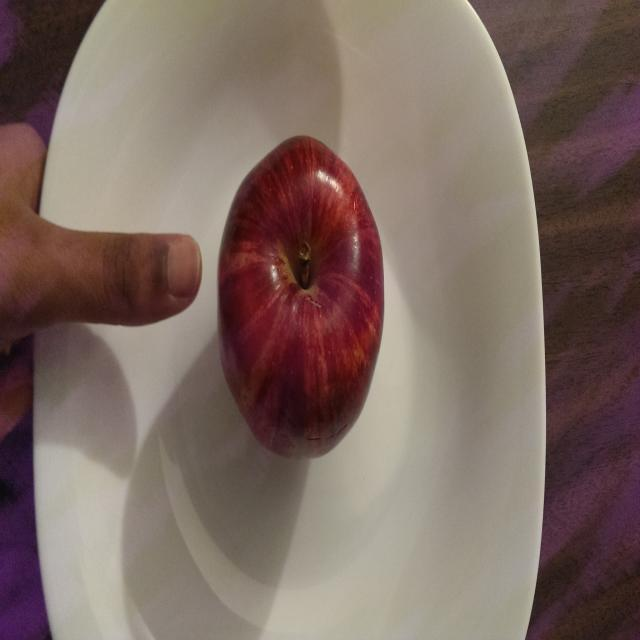Apple: (212, 132, 390, 468)
Finger: (80, 222, 206, 331)
